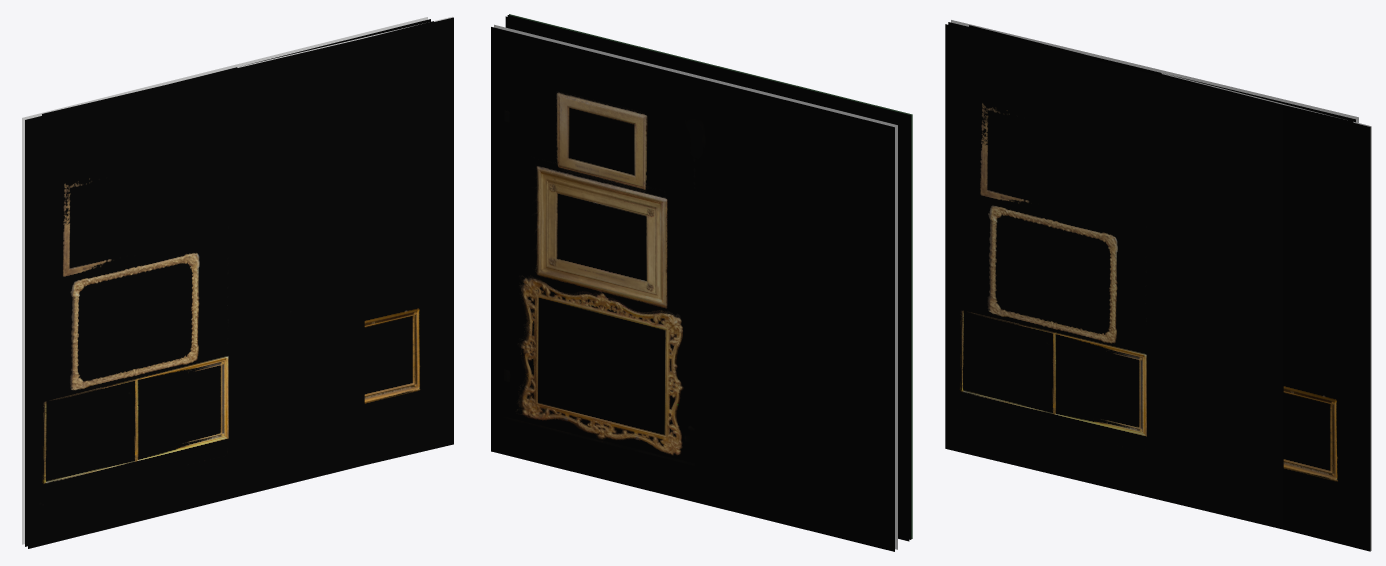
File: NORTH_WALL.gltf
3 views of the same model, side by side, from view 1: azimuth 30°, elevation 25°; view 2: azimuth 150°, elevation 25°; view 3: azimuth 330°, elevation 25° (orthographic).
Parts seen in each view (by area): view 1: _0000_NR1B_Slice_, _0000_NL1B_Slice_, _0002_NR1B_Slice_, _0001_NR1B_Slice_, _0001_NL1B_Slice_; view 2: _0001_NL1F_Slice_, _0005_NB_Slice_, _0002_NL1F_Slice_, _0006_NB_Slice_, _0002_NR1F_Slice_, _0007_NB_Slice_; view 3: _0000_NR1B_Slice_, _0000_NL1B_Slice_, _0001_NL1B_Slice_, _0002_NR1B_Slice_, _0001_NR1B_Slice_.
Part boxes in pixels (x1,y1,x2,y2): _0000_NR1B_Slice_: (28,21,433,548); _0000_NL1B_Slice_: (42,17,453,464); _0002_NR1B_Slice_: (22,17,427,544); _0001_NR1B_Slice_: (25,19,430,546); _0001_NL1B_Slice_: (40,16,452,115); _0001_NL1F_Slice_: (491,27,894,551); _0005_NB_Slice_: (505,16,909,541); _0002_NL1F_Slice_: (494,24,897,511); _0006_NB_Slice_: (507,15,911,539); _0002_NR1F_Slice_: (499,26,897,549); _0007_NB_Slice_: (509,14,912,538); _0000_NR1B_Slice_: (945,24,1353,529); _0000_NL1B_Slice_: (969,25,1370,551); _0001_NL1B_Slice_: (970,24,1371,550); _0002_NR1B_Slice_: (951,20,1358,122); _0001_NR1B_Slice_: (948,22,1355,122).
Size of the model in its own units: 4.19 by 4 by 0.3349.
